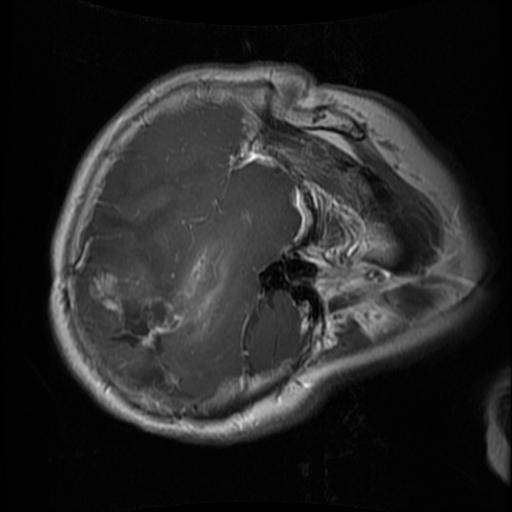glioma: (88, 236, 232, 363)
